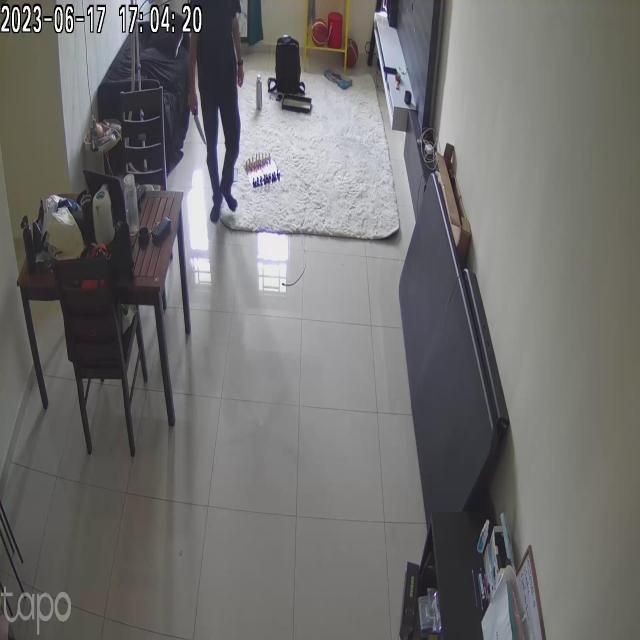Knife: (188, 109, 212, 151)
